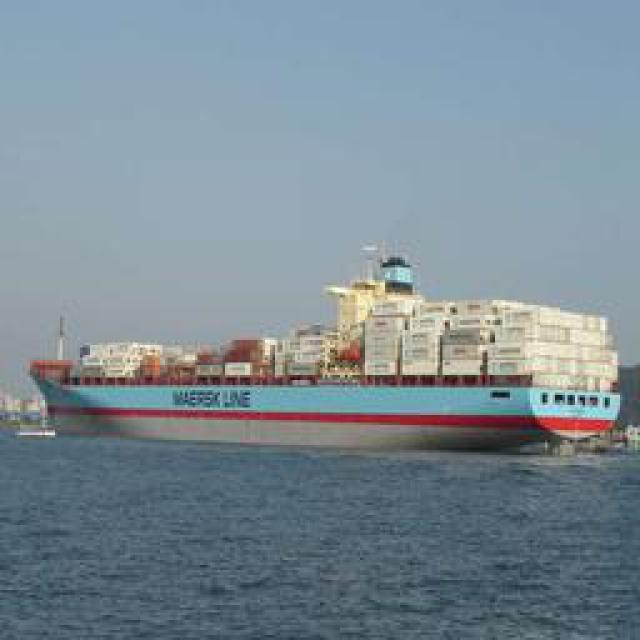Ship: (27, 239, 625, 449)
